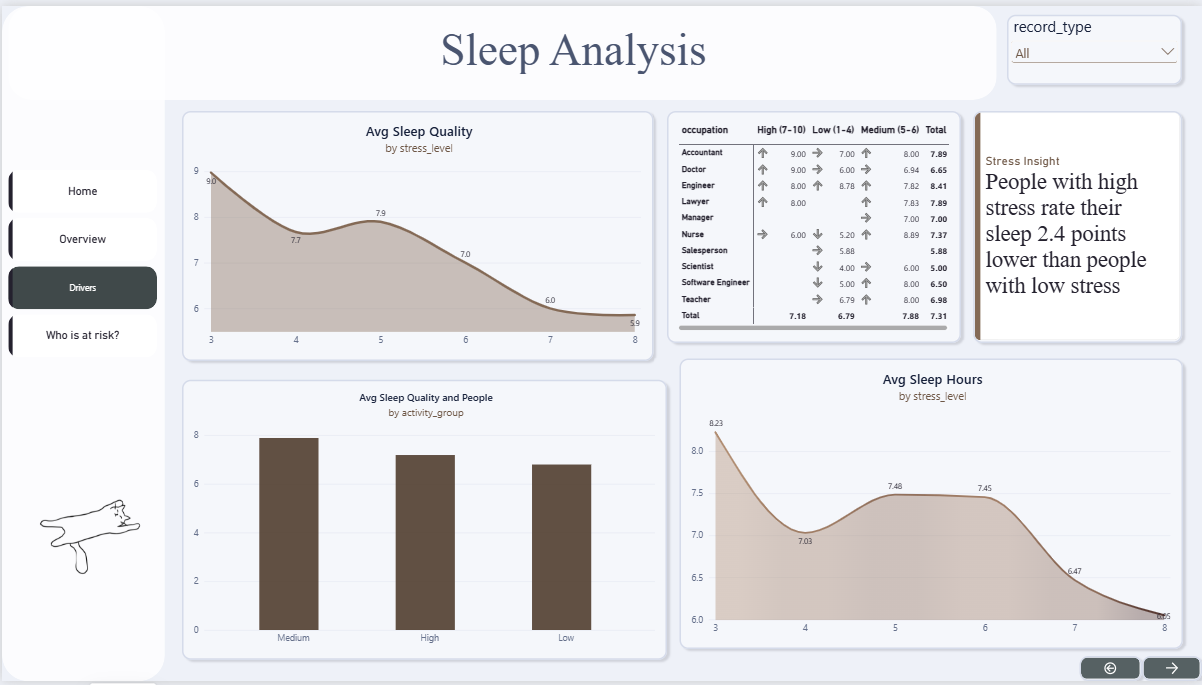

This screenshot's page, from the dashboard's own definition file:
{"tool":"powerbi","page":{"name":"Drivers","canvas":[1920,1080],"ordinal":2},"visuals":[{"type":"lineChart","fields":{"Category":["fact_sleep.stress_level"],"Y":["_measures.Avg Sleep Quality"]},"box":[288,168,754,400],"z":0},{"type":"lineChart","fields":{"Category":["fact_sleep.stress_level"],"Y":["_measures.Avg Sleep Hours"]},"box":[1084,564.6,805.3,465.1],"z":1000},{"type":"clusteredColumnChart","fields":{"Category":["dim_activity.activity_group"],"Y":["_measures.Avg Sleep Quality"]},"box":[288,598,776,448],"z":2000},{"type":"pivotTable","fields":{"Columns":["dim_stress_band.stress_band"],"Rows":["dim_occupation.occupation"],"Values":["_measures.Avg Sleep Quality"]},"box":[1064.1,168.3,470.5,371],"z":3000},{"type":"actionButton","box":[1724,1040,100,40],"z":4000},{"type":"cardVisual","fields":{"Data":["_measures.Stress Insight"]},"box":[1554.5,168.3,334.8,371],"z":5000},{"type":"slicer","fields":{"Values":["fact_sleep.record_type"]},"box":[1608.8,14.5,280,112],"z":6000},{"type":"actionButton","box":[1824,1040,96,40],"z":8000},{"type":"shape","box":[10.9,0,1581.6,150.2],"z":8001},{"type":"shape","box":[0,0,260.6,1080.4],"z":8002},{"type":"textbox","box":[260.6,27.1,1308.4,86.9],"z":8003},{"type":"pageNavigator","box":[10.9,262.4,238.9,302.2],"z":8004},{"type":"image","box":[0,564.2,278.7,515.8],"z":8005}]}

Visuals, with their boxes on the page's 1920x1080 design canvas (x1, y1, x2, y2). These are canvas units, not pixel positions in the 1202x685 screenshot, which may show the page scaled, cropped or inside an application window:
lineChart - fact_sleep.stress_level x _measures.Avg Sleep Quality: 288/168/1042/568
lineChart - fact_sleep.stress_level x _measures.Avg Sleep Hours: 1084/565/1889/1030
clusteredColumnChart - dim_activity.activity_group x _measures.Avg Sleep Quality: 288/598/1064/1046
pivotTable - dim_stress_band.stress_band x dim_occupation.occupation: 1064/168/1535/539
actionButton: 1724/1040/1824/1080
cardVisual - _measures.Stress Insight: 1554/168/1889/539
slicer - fact_sleep.record_type: 1609/14/1889/126
actionButton: 1824/1040/1920/1080
shape: 11/0/1592/150
shape: 0/0/261/1080
textbox: 261/27/1569/114
pageNavigator: 11/262/250/565
image: 0/564/279/1080
